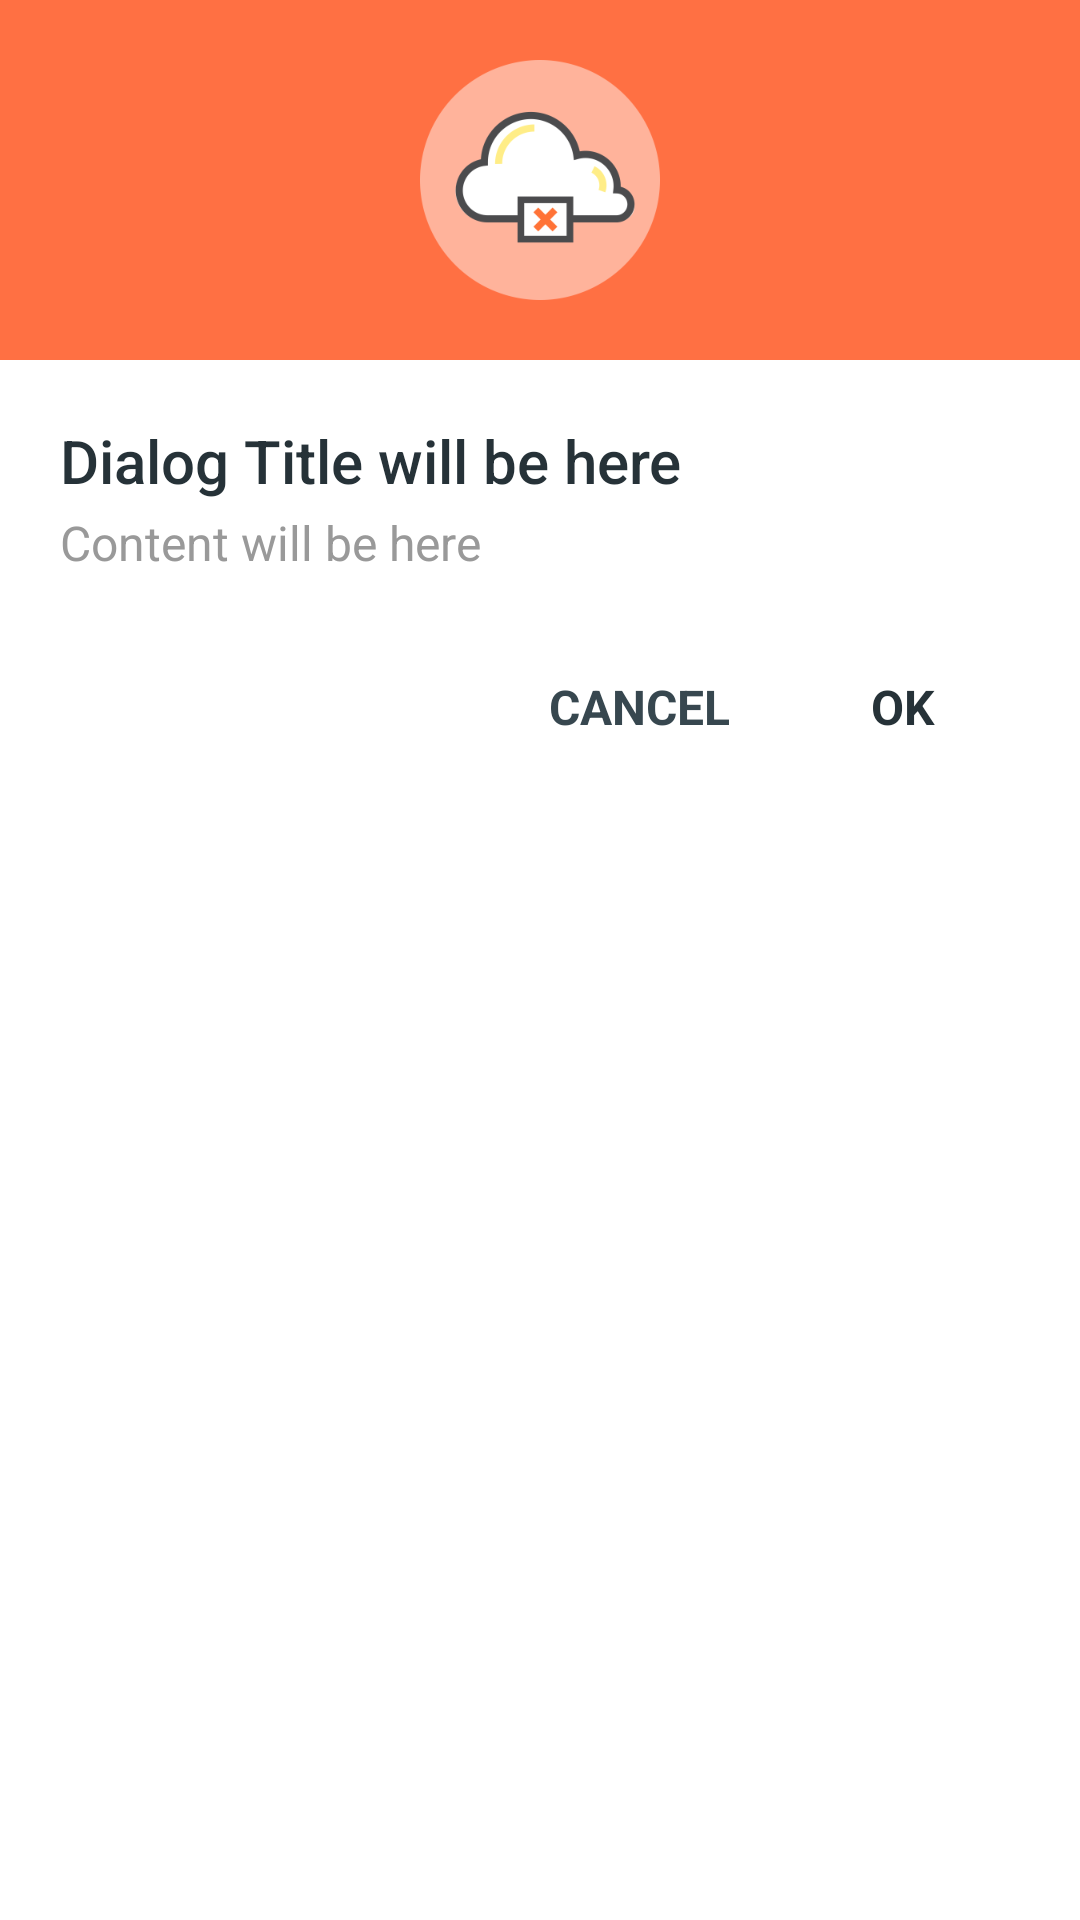

Named icons in this screenshot (1080 × 1920) and their bounding boxes, (x1, y1, x2, y2):
no internet: (420, 60, 660, 300)
